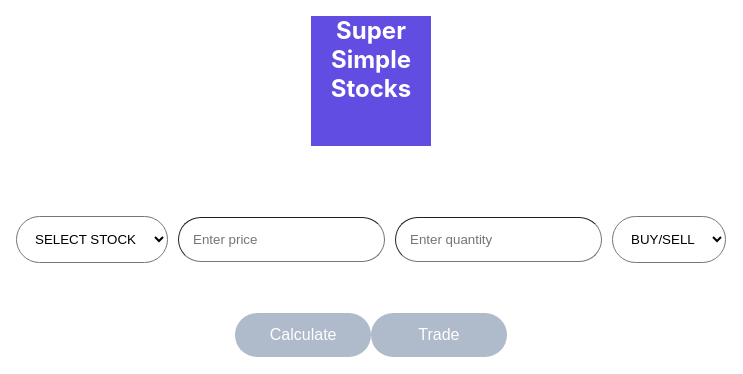
App › activates trade button on valid inputs
Expected: the button with test id "button-trade" is disabled, left=371, top=313, right=507, bottom=357
Select "TEA" in the dropdown with test id "stock-list" at (92, 239), box left=16, top=216, right=168, bottom=263
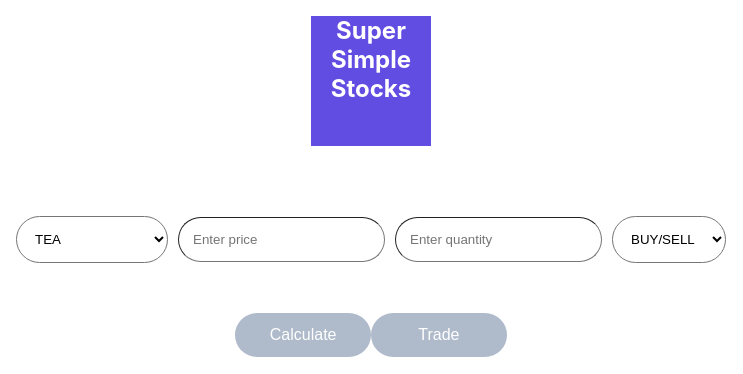
Type "100" into the number field with test id "input-price".
click(282, 239); type("100")  # box left=178, top=217, right=385, bottom=262
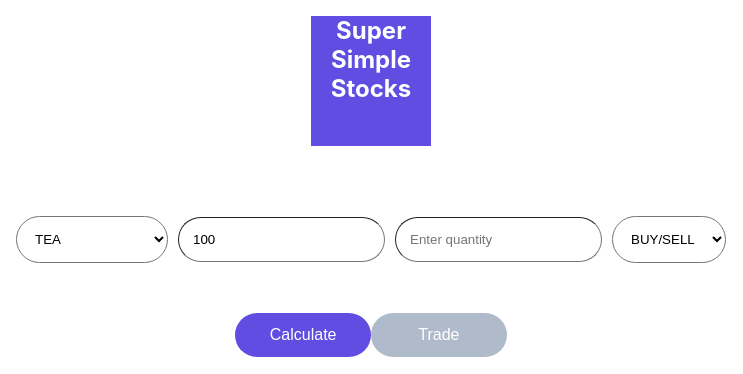
Type "100" into the number field with test id "input-quantity".
click(498, 239); type("100")  # box left=395, top=217, right=602, bottom=262
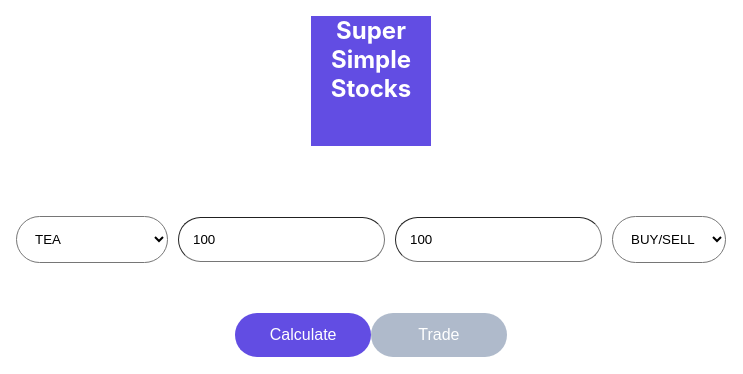
Select "BUY" in the dropdown with test id "type-list" at (669, 239), box left=612, top=216, right=726, bottom=263
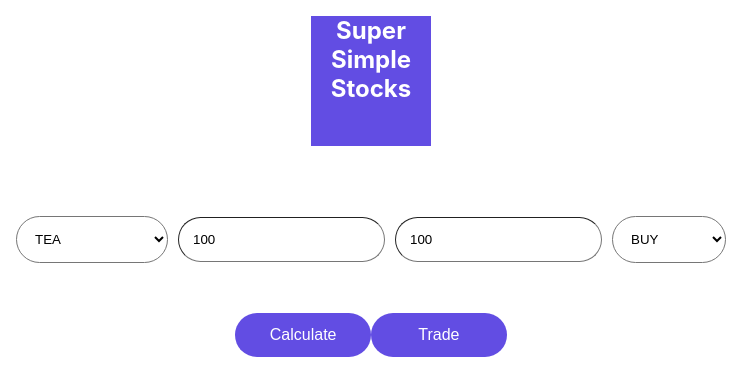
Now the button with test id "button-trade" is enabled, box left=371, top=313, right=507, bottom=357
